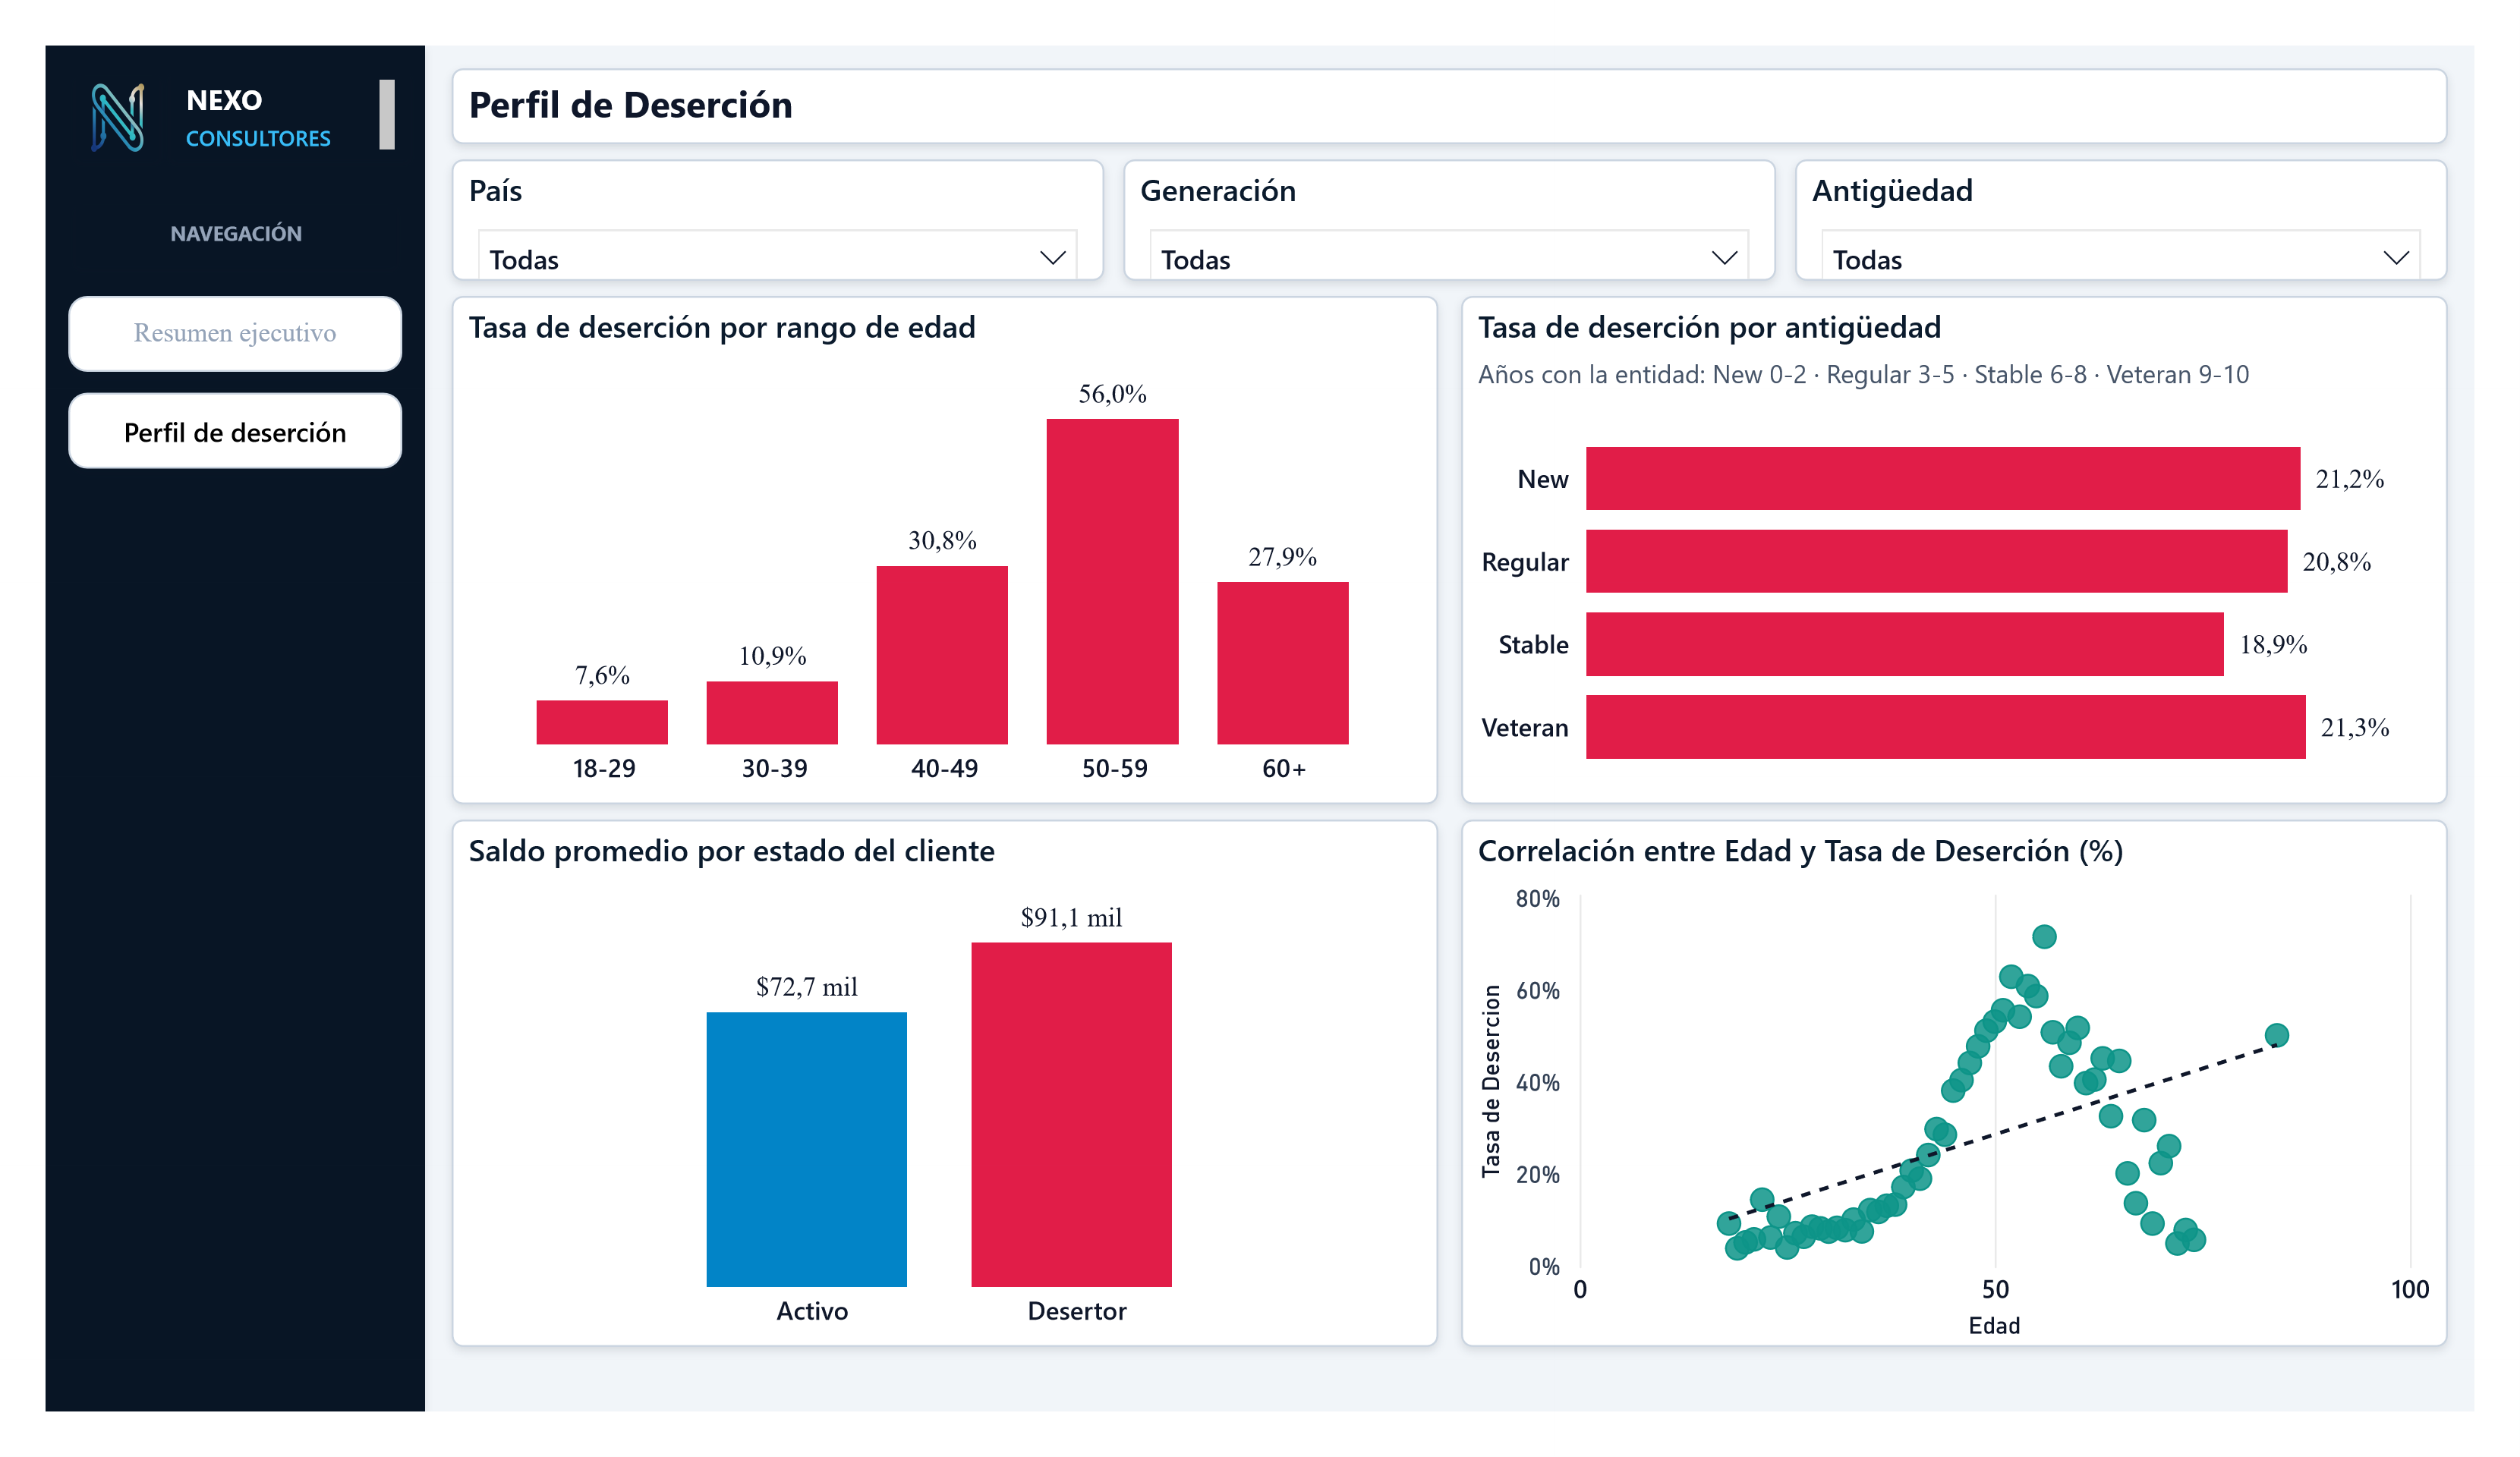

The page's visual inventory and layout, read from the dashboard file:
{"tool":"powerbi","page":{"name":"Perfil de Deserción","canvas":[1280,720],"ordinal":1},"visuals":[{"type":"textbox","box":[0,0,200,720],"z":0},{"type":"textbox","box":[214,12,1052,40],"z":1000},{"type":"slicer","title":"País","fields":{"Values":["Clientes.Geography"]},"box":[214,60,344,64],"z":2000},{"type":"slicer","title":"Generación","fields":{"Values":["Clientes.Generation"]},"box":[568,60,344,64],"z":3000},{"type":"slicer","title":"Antigüedad","fields":{"Values":["Clientes.Tenure_Group"]},"box":[922,60,344,64],"z":4000},{"type":"clusteredColumnChart","title":"Tasa de deserción por rango de edad","fields":{"Category":["Clientes.Rango de Edad"],"Y":["Clientes.Tasa de Desercion"]},"box":[214,132,520,268],"z":5000},{"type":"clusteredBarChart","title":"Tasa de deserción por antigüedad","fields":{"Category":["Clientes.Tenure_Group"],"Y":["Clientes.Tasa de Desercion"]},"box":[746,132,520,268],"z":6000},{"type":"clusteredColumnChart","title":"Saldo promedio por estado del cliente","fields":{"Category":["Clientes.Estado Cliente"],"Y":["Clientes.Saldo Promedio"]},"box":[214,408,520,278],"z":7000},{"type":"scatterChart","title":"Correlación entre Edad y Tasa de Deserción (%)","fields":{"Category":["Clientes.Age"],"X":["Avg(Clientes.Age)"],"Y":["Clientes.Tasa de Desercion"]},"box":[746,408,520,278],"z":8000},{"type":"textbox","box":[66,14,126,46],"z":9000},{"type":"textbox","box":[15.7,84.5,168.9,31.4],"z":10000},{"type":"image","box":[16,16,44,44],"z":11000},{"type":"actionButton","title":"Resumen Ejecutivo","box":[12.1,131.5,176,40],"z":12000},{"type":"actionButton","title":"Perfil de Deserción","box":[12.1,183.4,176,40],"z":13000}]}

Visuals, with their boxes on the page's 1280x720 design canvas (x1, y1, x2, y2). These are canvas units, not pixel positions in the 2520x1457 screenshot, which may show the page scaled, cropped or inside an application window:
textbox: [0,0,200,720]
textbox: [214,12,1266,52]
"País" slicer: [214,60,558,124]
"Generación" slicer: [568,60,912,124]
"Antigüedad" slicer: [922,60,1266,124]
"Tasa de deserción por rango de edad" clusteredColumnChart: [214,132,734,400]
"Tasa de deserción por antigüedad" clusteredBarChart: [746,132,1266,400]
"Saldo promedio por estado del cliente" clusteredColumnChart: [214,408,734,686]
"Correlación entre Edad y Tasa de Deserción (%)" scatterChart: [746,408,1266,686]
textbox: [66,14,192,60]
textbox: [16,84,185,116]
image: [16,16,60,60]
"Resumen Ejecutivo" actionButton: [12,132,188,172]
"Perfil de Deserción" actionButton: [12,183,188,223]
